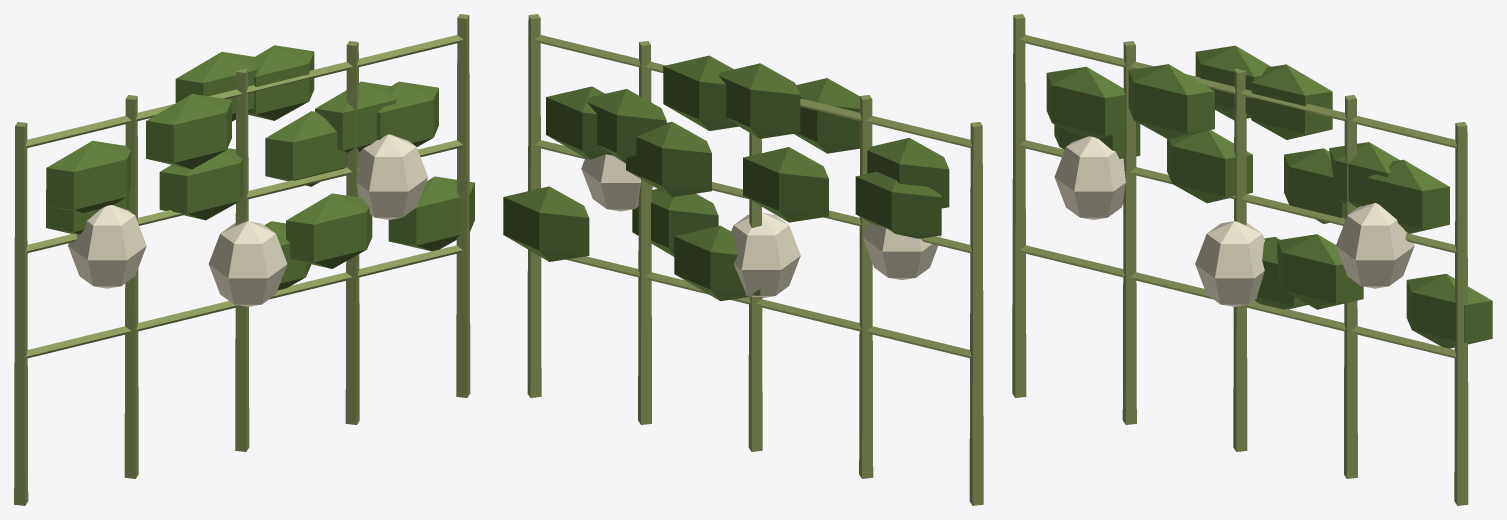
Rendered from a1r_gourd_trellis.glb.
The picture shows the model from 3 angles, left to right: view 1: azimuth 30°, elevation 25°; view 2: azimuth 150°, elevation 25°; view 3: azimuth 330°, elevation 25°; orthographic projection.
Visible parts, largest first — view 1: a1r_gourd_trellis; view 2: a1r_gourd_trellis; view 3: a1r_gourd_trellis.
Part boxes in pixels (bbox=[...]): a1r_gourd_trellis: bbox=[14, 14, 474, 505]; a1r_gourd_trellis: bbox=[503, 14, 983, 505]; a1r_gourd_trellis: bbox=[1012, 14, 1492, 505].
Size of the model in its own units: 2.34 by 1.88 by 0.3743.
